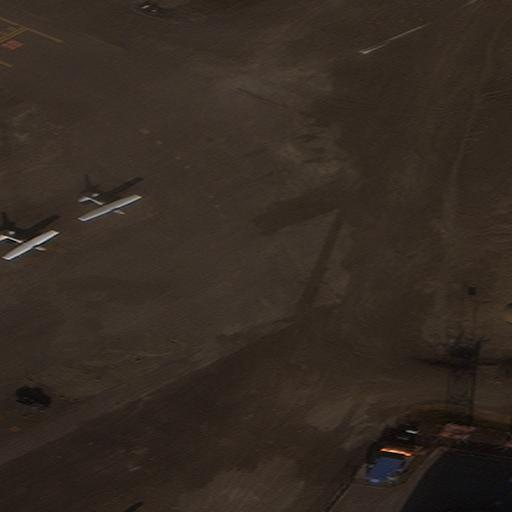Small Civil Transport: (0, 232, 58, 260), (83, 195, 141, 221)
